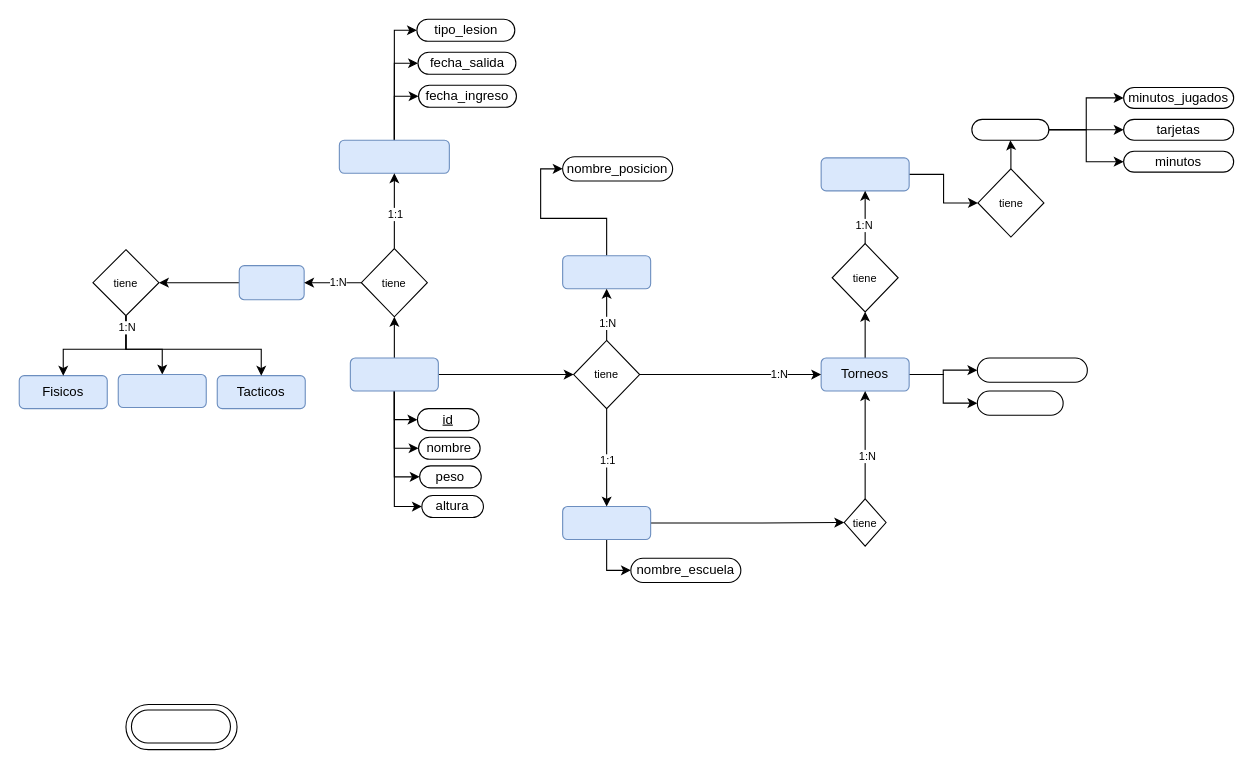
This 1253x769 diagram has some shape labels left out. Here are the shapes that lost their labels. From the top down, the box of each, then its label:
(971, 118, 1049, 140): registro
(338, 139, 449, 173): Historial Clinico
(820, 157, 909, 191): Partidos
(238, 265, 304, 300): test
(562, 255, 651, 289): Posicion
(349, 357, 438, 391): Jugador
(976, 357, 1087, 382): nombre_torneo
(117, 373, 206, 408): Tecnicos
(976, 390, 1063, 415): tipo_torneo
(562, 505, 651, 540): Escuela
(130, 709, 230, 743): etiquetas
